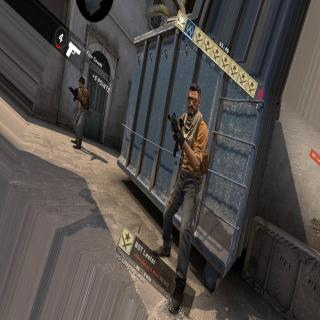T-Body: (158, 80, 209, 320), (76, 76, 90, 141)
T-Head: (188, 87, 198, 120), (79, 76, 84, 88)
